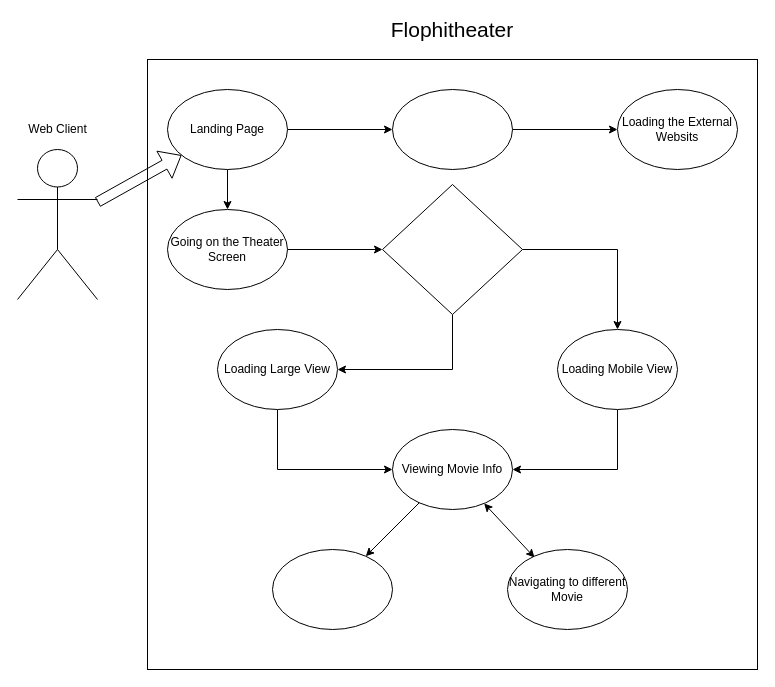
This 775x687 diagram has some shape labels left out. The centre of each missing label's shape, as x and y in pixels:
"Actor" belongs at (57,224).
"Checking Viewport" belongs at (452,249).
"Clicking External Links" belongs at (332,589).
"Clicking Links for external Websites" belongs at (452,129).
